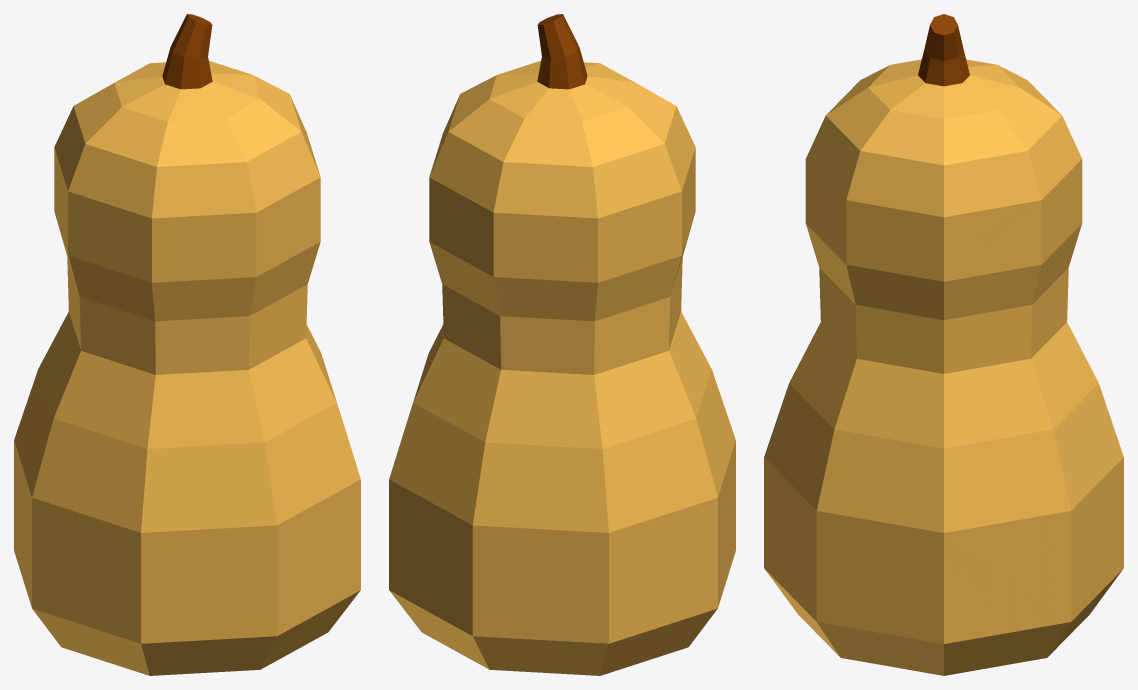
The model's file is buttersquash01.obj.
3 views of the same model, side by side, from view 1: azimuth 30°, elevation 25°; view 2: azimuth 150°, elevation 25°; view 3: azimuth 270°, elevation 25° (orthographic).
Parts seen in each view (by area): view 1: Cylinder.001; view 2: Cylinder.001; view 3: Cylinder.001.
Part boxes in pixels (x1=…): Cylinder.001: x1=14, y1=14, x2=360, y2=675; Cylinder.001: x1=389, y1=14, x2=735, y2=675; Cylinder.001: x1=764, y1=14, x2=1123, y2=675.
Size of the model in its own units: 0.1035 by 0.2003 by 0.1035.
Materials: 1 (1 with a texture image).
